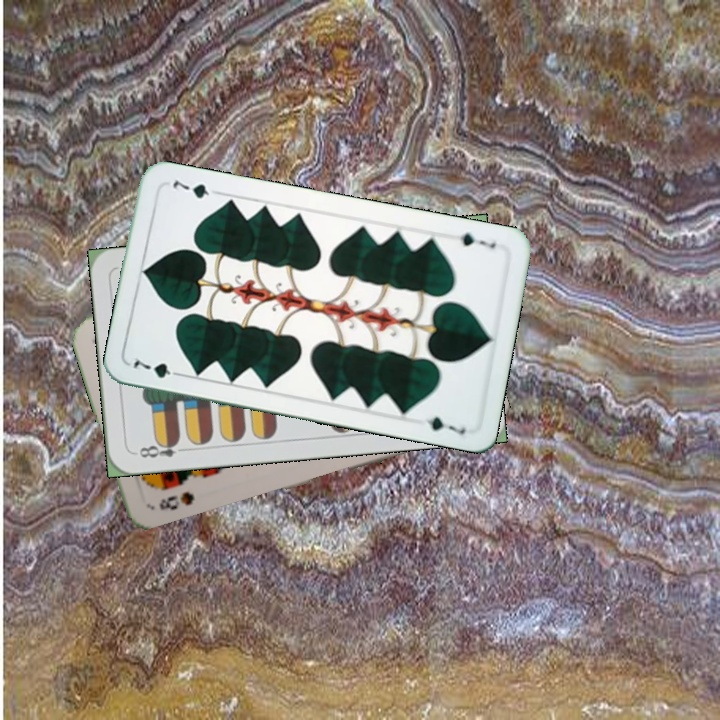E8: (131, 435, 190, 461)
G7: (129, 354, 186, 381), (456, 228, 498, 251)
S8: (155, 487, 197, 513)
